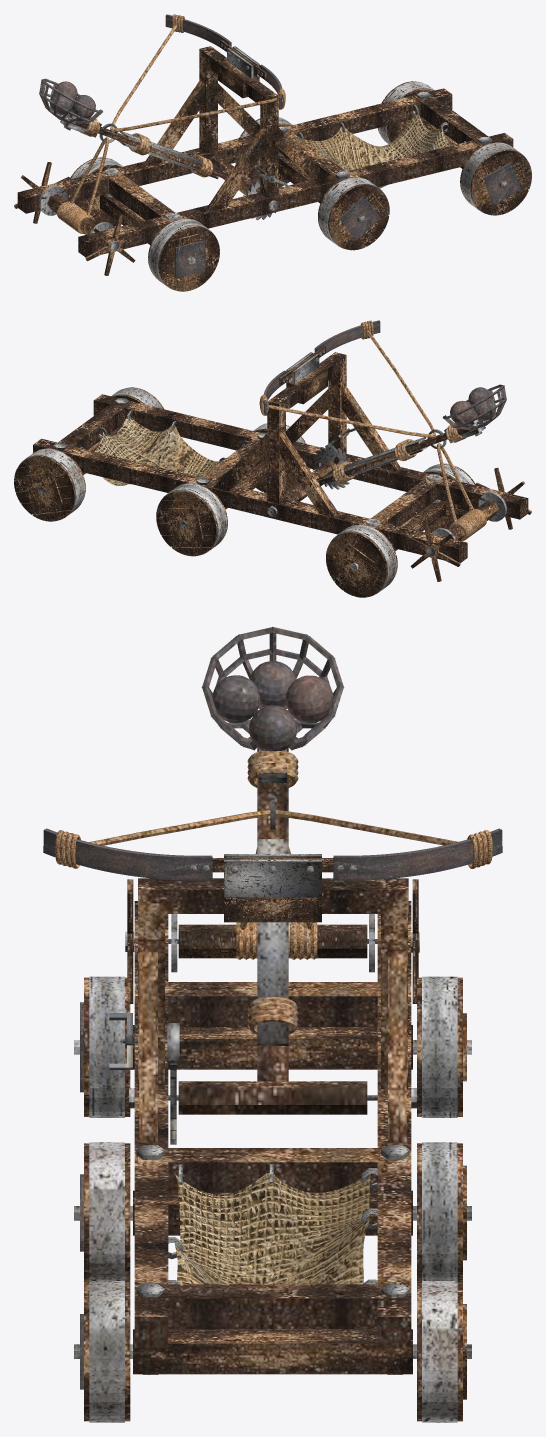
Rendered from catapult.obj.
3 renders of one model, top to bottom at view 1: azimuth 30°, elevation 25°; view 2: azimuth 150°, elevation 25°; view 3: azimuth 270°, elevation 25°, orthographic. The views are drawn at different scales.
Visible parts, largest first — view 1: CATAPULT_1_govde_1, CATAPULT_1_kol_1, CATAPULT_1_tekerlek_1, CATAPULT_1_tekerlek_3, CATAPULT_1_tekerlek_2, CATAPULT_1_file_1, CATAPULT_1_arka_carklar_1, CATAPULT_1_yay_1; view 2: CATAPULT_1_govde_1, CATAPULT_1_kol_1, CATAPULT_1_tekerlek_1, CATAPULT_1_tekerlek_2, CATAPULT_1_tekerlek_3, CATAPULT_1_file_1, CATAPULT_1_arka_carklar_1, CATAPULT_1_yay_1; view 3: CATAPULT_1_govde_1, CATAPULT_1_kol_1, CATAPULT_1_tekerlek_3, CATAPULT_1_tekerlek_1, CATAPULT_1_file_1, CATAPULT_1_yay_1, CATAPULT_1_tekerlek_2, CATAPULT_1_arka_carklar_1.
Boxes of the visible parts, box(x1,y1,x2,y2) form: CATAPULT_1_govde_1: box(17, 46, 513, 257); CATAPULT_1_kol_1: box(39, 24, 290, 220); CATAPULT_1_tekerlek_1: box(70, 157, 219, 291); CATAPULT_1_tekerlek_3: box(377, 81, 531, 215); CATAPULT_1_tekerlek_2: box(235, 117, 389, 250); CATAPULT_1_file_1: box(298, 104, 465, 188); CATAPULT_1_arka_carklar_1: box(14, 137, 141, 275); CATAPULT_1_yay_1: box(165, 14, 285, 109); CATAPULT_1_govde_1: box(33, 352, 528, 562); CATAPULT_1_kol_1: box(267, 330, 506, 516); CATAPULT_1_tekerlek_1: box(326, 463, 475, 597); CATAPULT_1_tekerlek_2: box(156, 423, 310, 556); CATAPULT_1_tekerlek_3: box(14, 387, 163, 521); CATAPULT_1_file_1: box(80, 410, 248, 485); CATAPULT_1_arka_carklar_1: box(404, 443, 531, 581); CATAPULT_1_yay_1: box(259, 320, 380, 415); CATAPULT_1_govde_1: box(134, 878, 411, 1347); CATAPULT_1_kol_1: box(89, 627, 458, 1144); CATAPULT_1_tekerlek_3: box(74, 1281, 471, 1422); CATAPULT_1_tekerlek_1: box(74, 976, 471, 1117); CATAPULT_1_file_1: box(168, 1164, 377, 1284); CATAPULT_1_yay_1: box(43, 828, 502, 922); CATAPULT_1_tekerlek_2: box(74, 1142, 471, 1281); CATAPULT_1_arka_carklar_1: box(125, 847, 419, 1003).
Size of the model in its own units: 6.04 by 2.56 by 2.72.
Materials: 8 (8 with a texture image).
